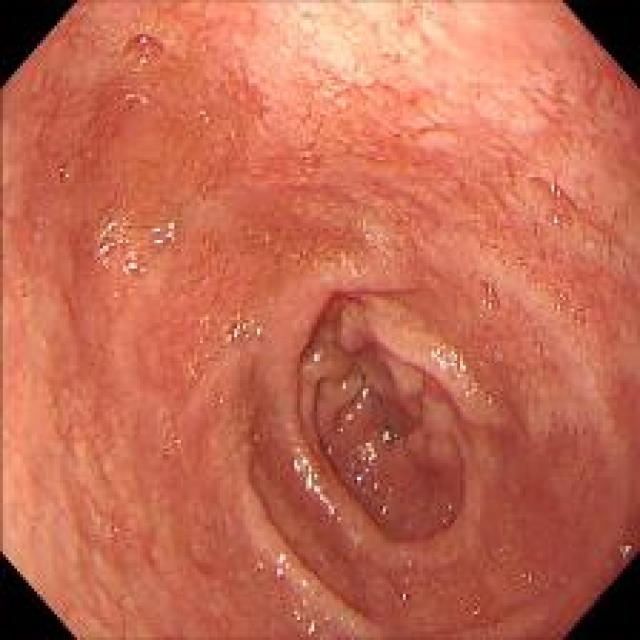bubbles: (515, 164, 581, 240), (109, 35, 176, 80), (220, 305, 268, 346), (555, 284, 589, 328), (465, 280, 502, 320), (389, 566, 426, 605), (152, 428, 185, 466), (56, 154, 84, 188), (101, 515, 128, 548), (12, 276, 38, 306), (485, 239, 509, 268), (519, 564, 539, 586), (216, 386, 234, 402), (431, 582, 445, 600), (474, 614, 491, 628), (200, 345, 211, 362), (205, 580, 220, 592)
color misalignment: (618, 541, 631, 562)
saturation: (259, 5, 456, 90)
specularity: (254, 548, 338, 634), (100, 211, 178, 278), (344, 415, 401, 506), (420, 336, 492, 399), (288, 448, 339, 519), (295, 242, 372, 274), (306, 348, 334, 366), (548, 181, 561, 196), (224, 328, 238, 341), (358, 386, 371, 399), (482, 296, 492, 310), (400, 589, 410, 601), (138, 54, 148, 66), (551, 212, 560, 224), (254, 325, 264, 335), (484, 282, 494, 292), (339, 379, 349, 388), (139, 36, 149, 44), (555, 304, 561, 311)
